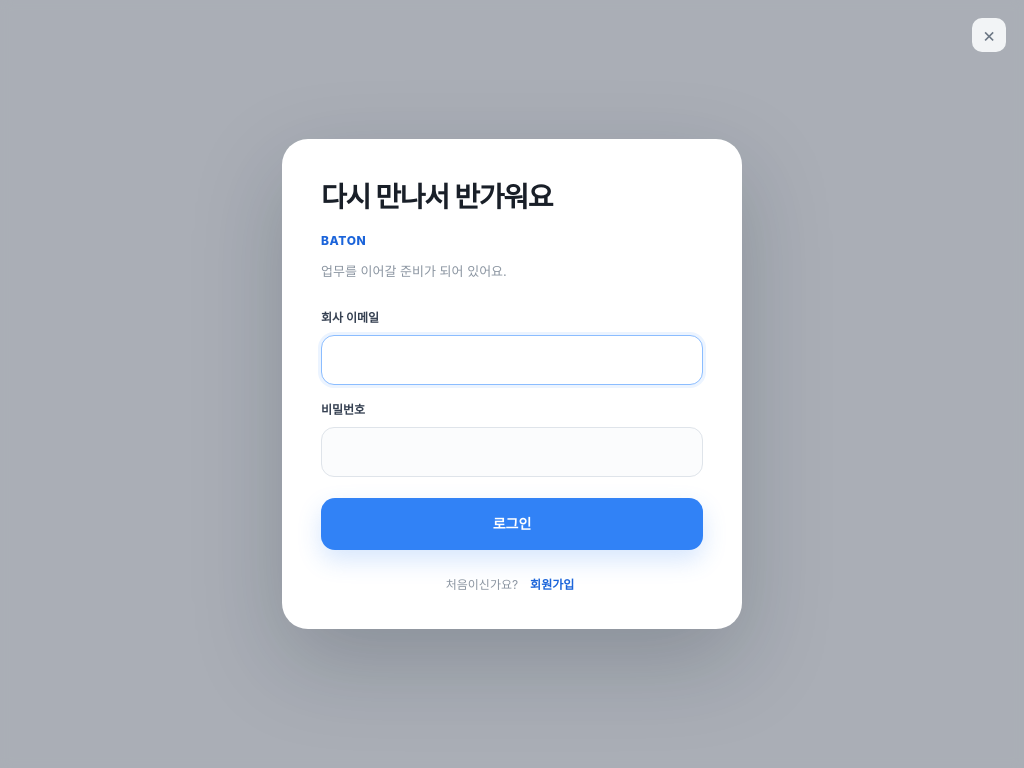
Test: AuthModal › shows a pending state while the login request is running
Type "haneul@moastore.co.kr" into the field labelled "회사 이메일". click: x=512, y=360
box: [321, 335, 703, 385]
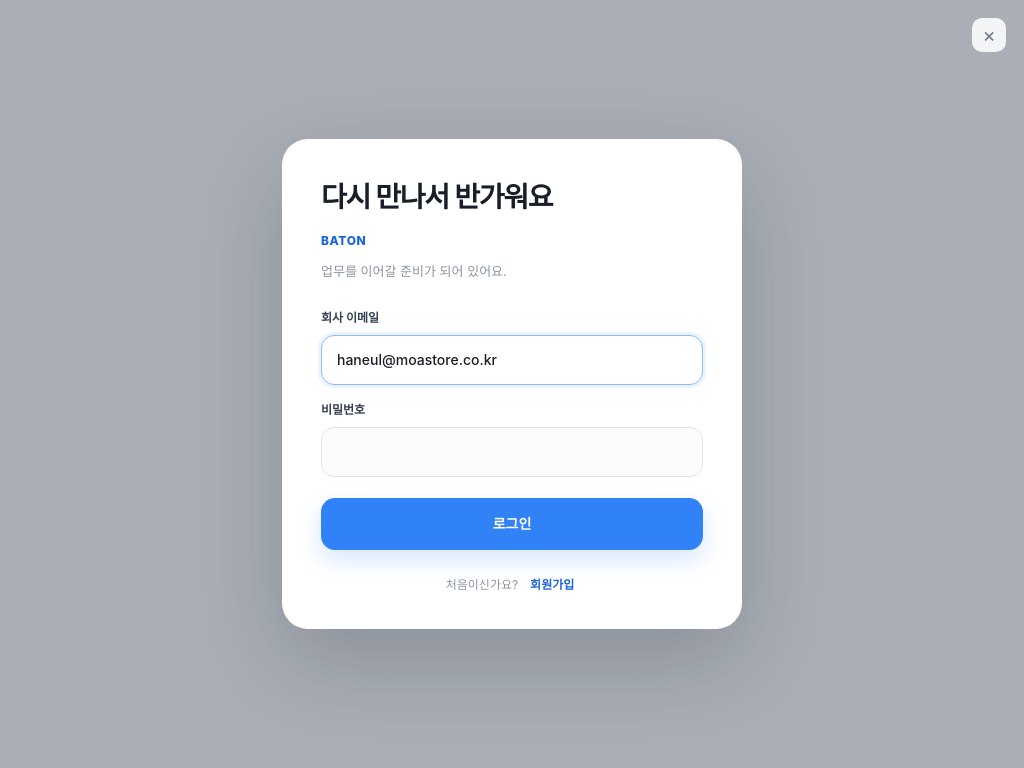
Type "secret" into the password field labelled "비밀번호". click: x=512, y=452
box: [321, 427, 703, 477]
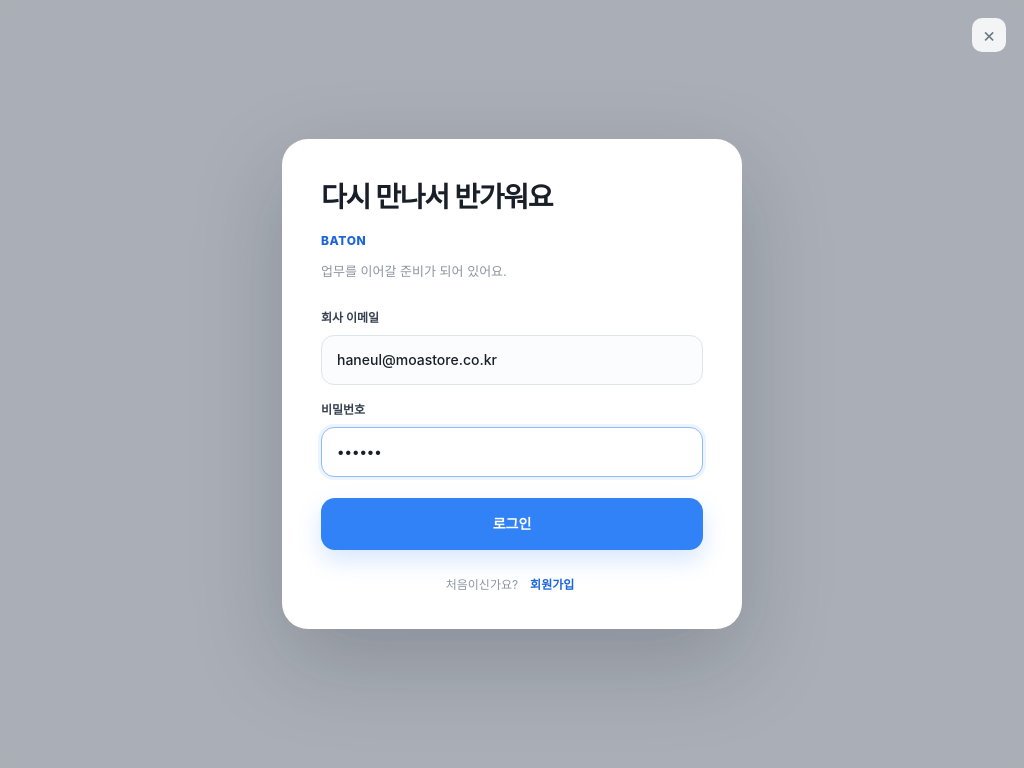
Click the button "로그인". click: x=512, y=524
box: [321, 498, 703, 550]
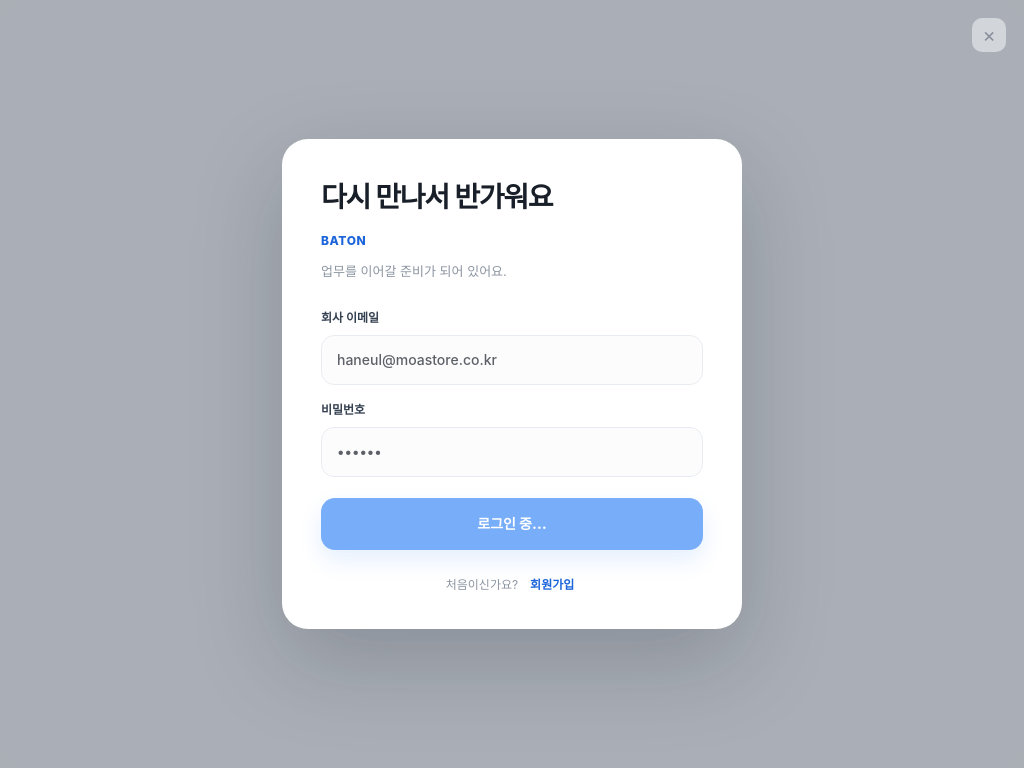
Check: the button "로그인 중…" is disabled, box [321, 498, 703, 550]
Check: the field labelled "회사 이메일" is disabled, box [321, 335, 703, 385]
